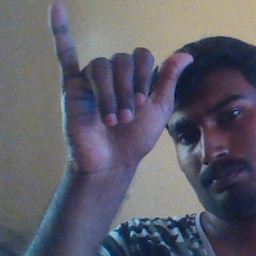J: (47, 3, 193, 168)
